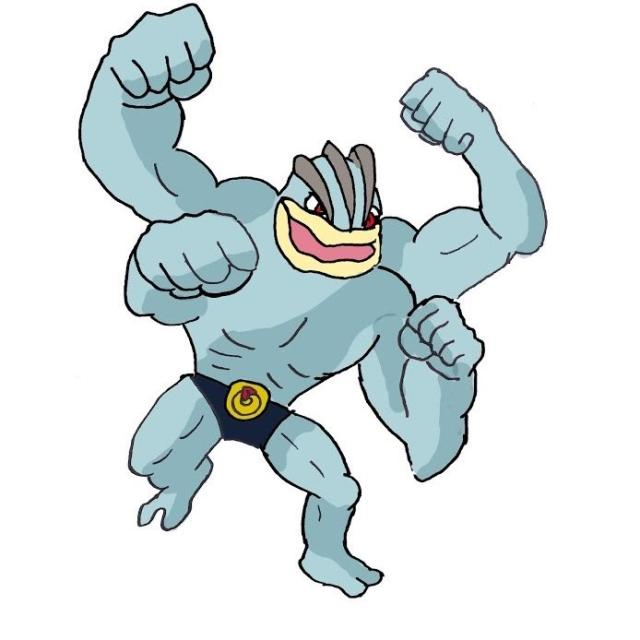Machamp: (114, 88, 494, 572)
